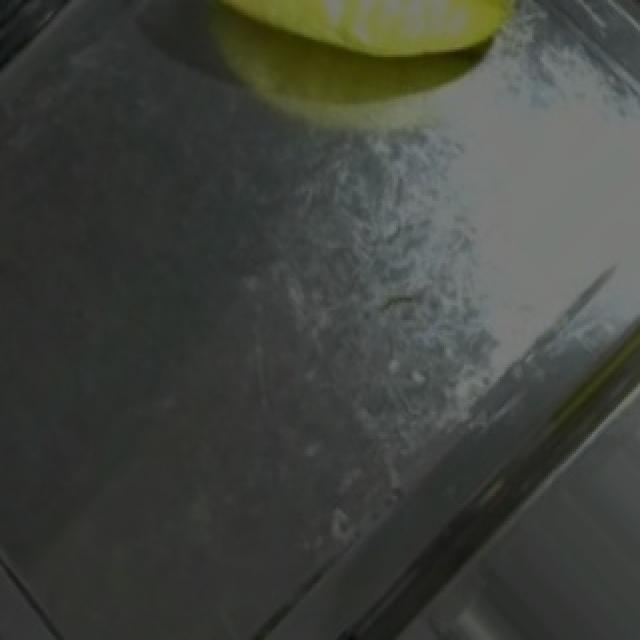fruit: (166, 0, 554, 117)
